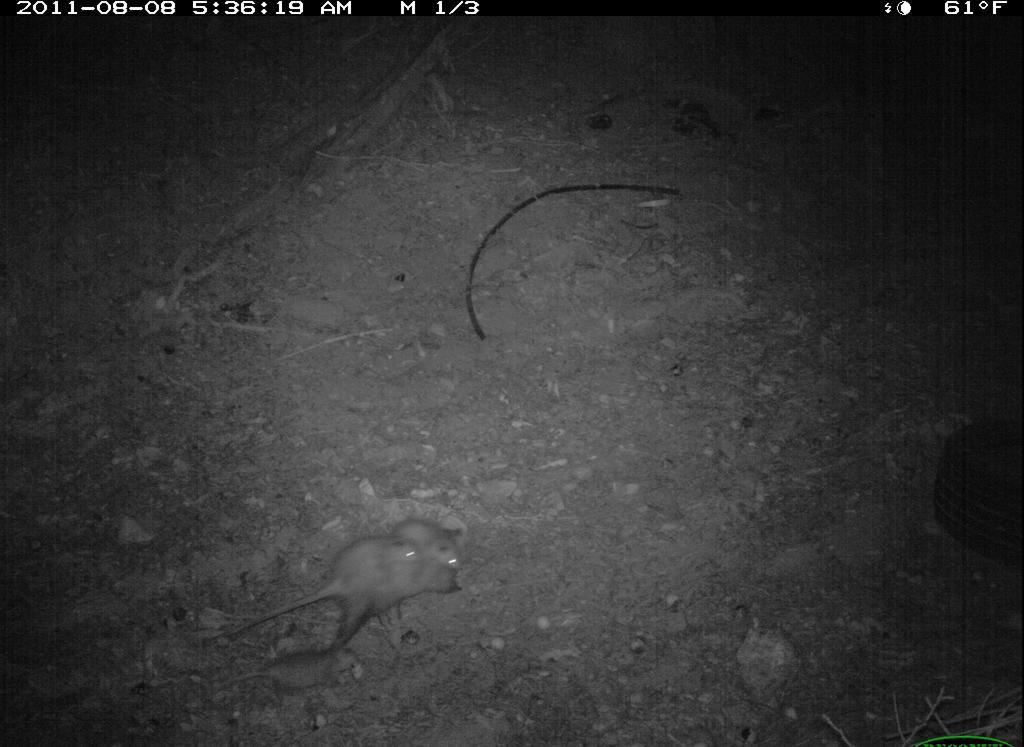opossum: (212, 524, 470, 656)
